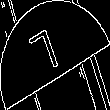L_SE: (37, 26, 73, 84)
